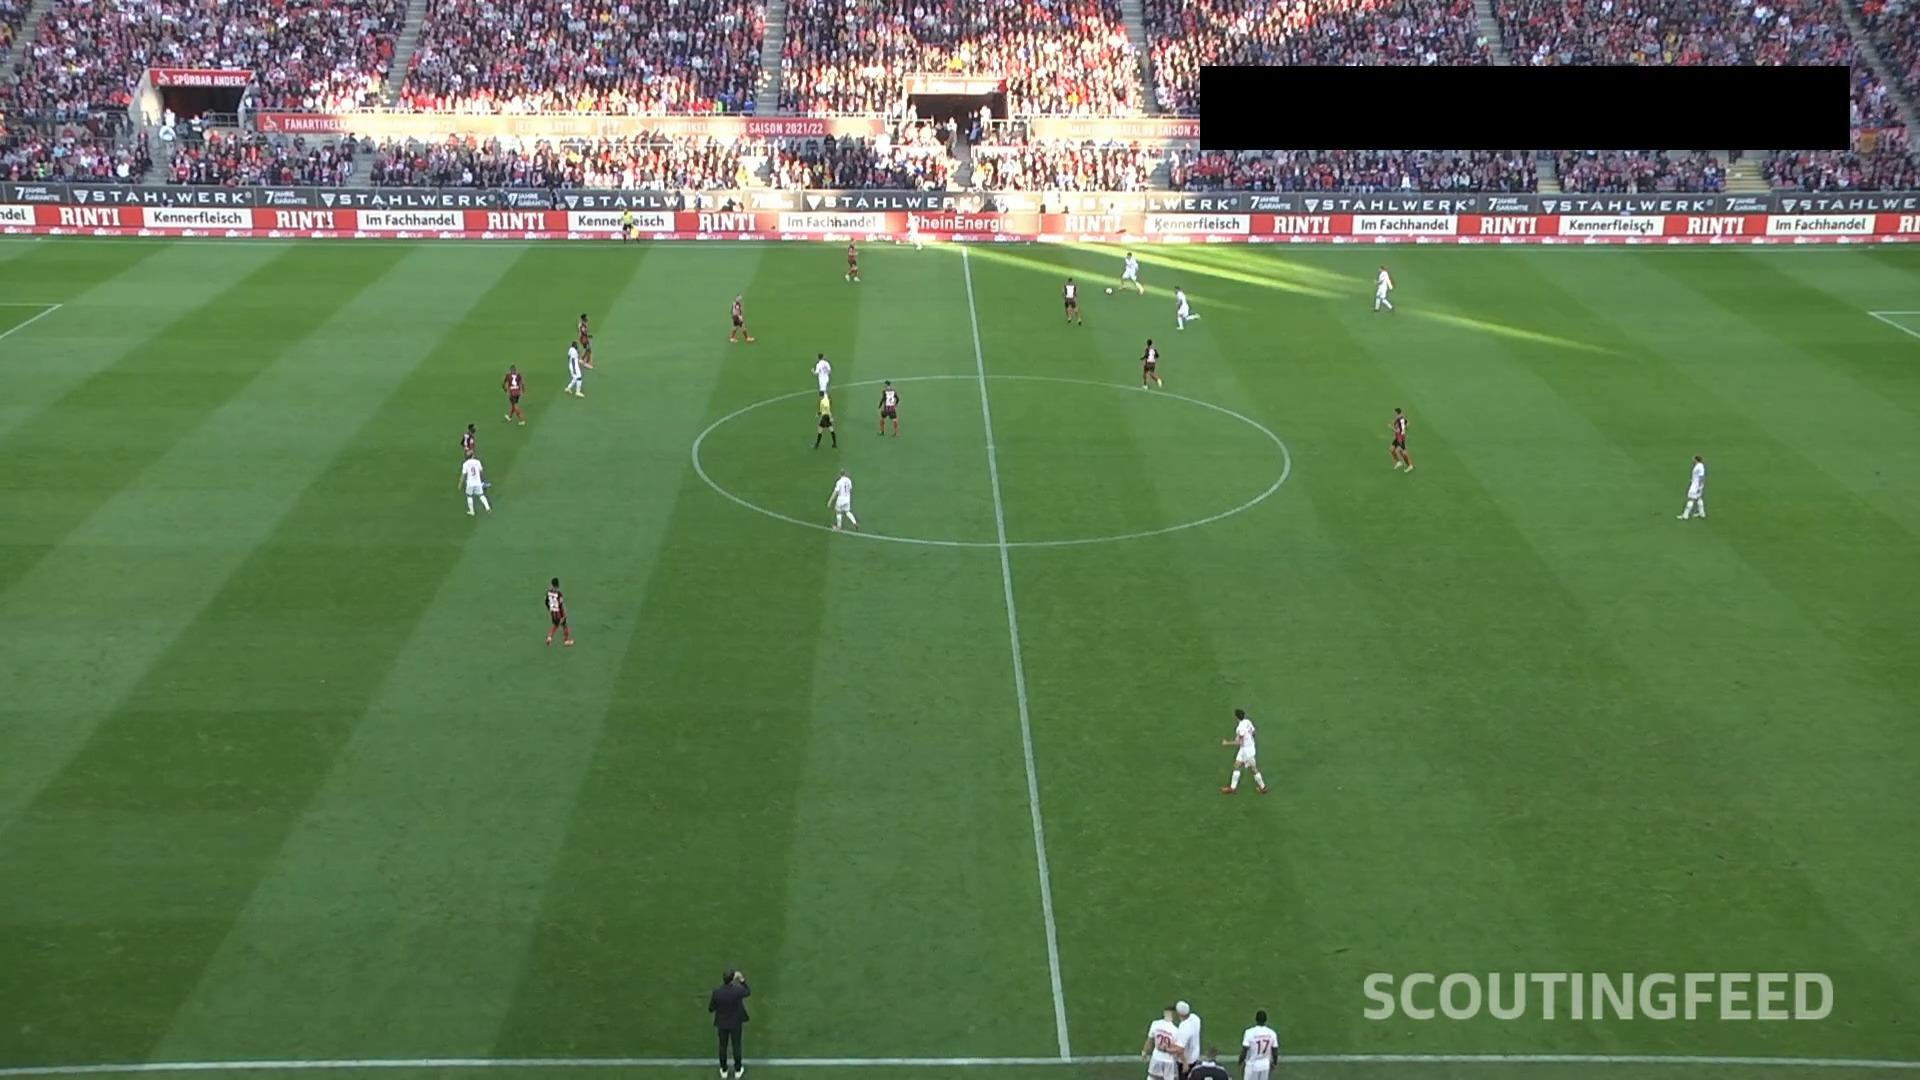ball: (1105, 286, 1113, 295)
